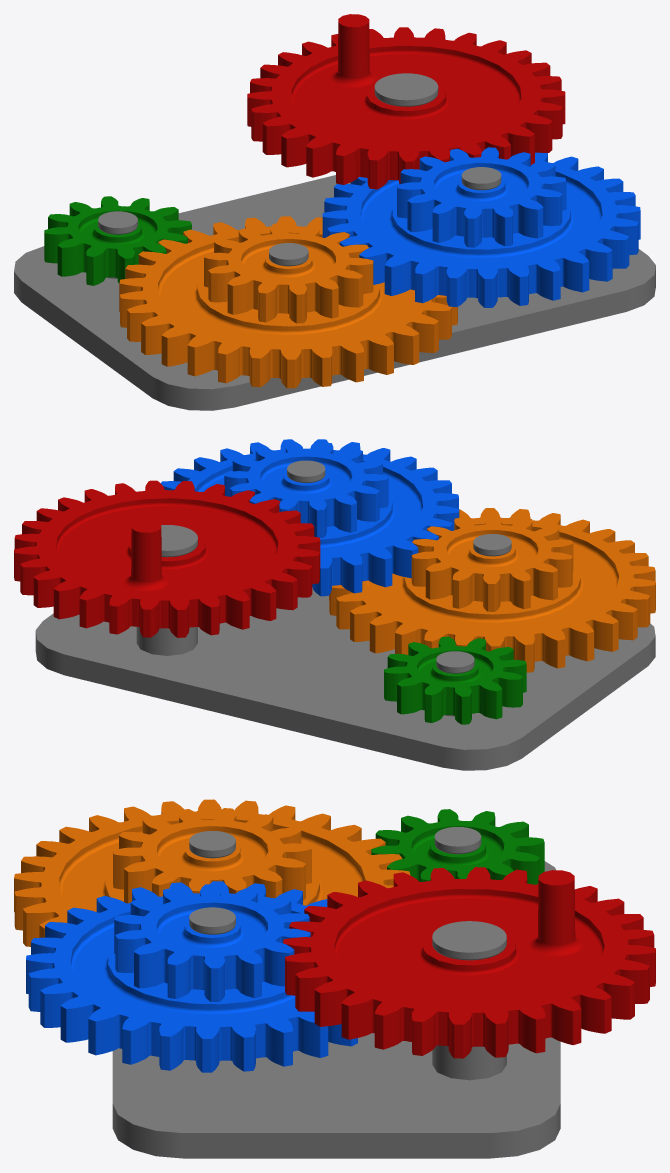
The model's file is Compound_Gear_Train_Assembly_FOR_3D_PRINT.glb.
3 renders of one model, top to bottom at view 1: azimuth 30°, elevation 25°; view 2: azimuth 150°, elevation 25°; view 3: azimuth 270°, elevation 25°, orthographic. The views are drawn at different scales.
Parts seen in each view (by area): view 1: 28Teeth_Driven_Gear-1, 30Teeth-1, BackPlane_Solid_Model FOR 3D PRINT-1, 28Teeth-1, 14Teeth-1 (×2), 12Teeth-1, Snap Pin 28-1, Snap Pin 12 Teeth-1, Snap Pin 14_28-1, Snap Pin 30_14-2; view 2: BackPlane_Solid_Model FOR 3D PRINT-1, 28Teeth_Driven_Gear-1, 30Teeth-1, 14Teeth-1 (×2), 28Teeth-1, 12Teeth-1, Snap Pin 28-1, Snap Pin 14_28-1, Snap Pin 12 Teeth-1, Snap Pin 30_14-2; view 3: 28Teeth_Driven_Gear-1, BackPlane_Solid_Model FOR 3D PRINT-1, 14Teeth-1 (×2), 28Teeth-1, 30Teeth-1, 12Teeth-1, Snap Pin 28-1, Snap Pin 12 Teeth-1, Snap Pin 14_28-1, Snap Pin 30_14-2.
Boxes of the visible parts, <box> form: 28Teeth_Driven_Gear-1: <box>247,14,565,189</box>; 30Teeth-1: <box>119,216,457,388</box>; BackPlane_Solid_Model FOR 3D PRINT-1: <box>14,175,655,410</box>; 28Teeth-1: <box>322,152,640,307</box>; 14Teeth-1 (×2): <box>204,147,566,323</box>; 12Teeth-1: <box>44,196,191,285</box>; Snap Pin 28-1: <box>374,73,438,106</box>; Snap Pin 12 Teeth-1: <box>98,211,137,234</box>; Snap Pin 14_28-1: <box>461,167,501,190</box>; Snap Pin 30_14-2: <box>269,243,308,266</box>; BackPlane_Solid_Model FOR 3D PRINT-1: <box>35,587,655,770</box>; 28Teeth_Driven_Gear-1: <box>14,480,320,637</box>; 30Teeth-1: <box>329,508,655,672</box>; 14Teeth-1 (×2): <box>224,441,573,611</box>; 28Teeth-1: <box>160,439,459,596</box>; 12Teeth-1: <box>384,636,526,724</box>; Snap Pin 28-1: <box>161,525,197,557</box>; Snap Pin 14_28-1: <box>287,460,325,482</box>; Snap Pin 12 Teeth-1: <box>436,651,474,673</box>; Snap Pin 30_14-2: <box>473,534,511,556</box>; 28Teeth_Driven_Gear-1: <box>283,867,655,1058</box>; BackPlane_Solid_Model FOR 3D PRINT-1: <box>112,861,560,1158</box>; 14Teeth-1 (×2): <box>113,808,311,1001</box>; 28Teeth-1: <box>26,881,357,1072</box>; 30Teeth-1: <box>14,799,410,946</box>; 12Teeth-1: <box>371,809,544,884</box>; Snap Pin 28-1: <box>432,921,506,960</box>; Snap Pin 12 Teeth-1: <box>434,827,481,854</box>; Snap Pin 14_28-1: <box>189,907,235,934</box>; Snap Pin 30_14-2: <box>189,831,235,858</box>.
Size of the model in its own units: 0.2368 by 0.0763 by 0.2185.
